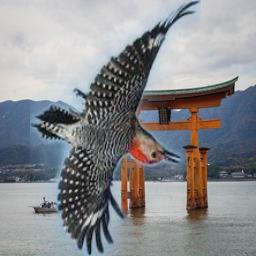Woodpecker: (30, 0, 201, 256)
